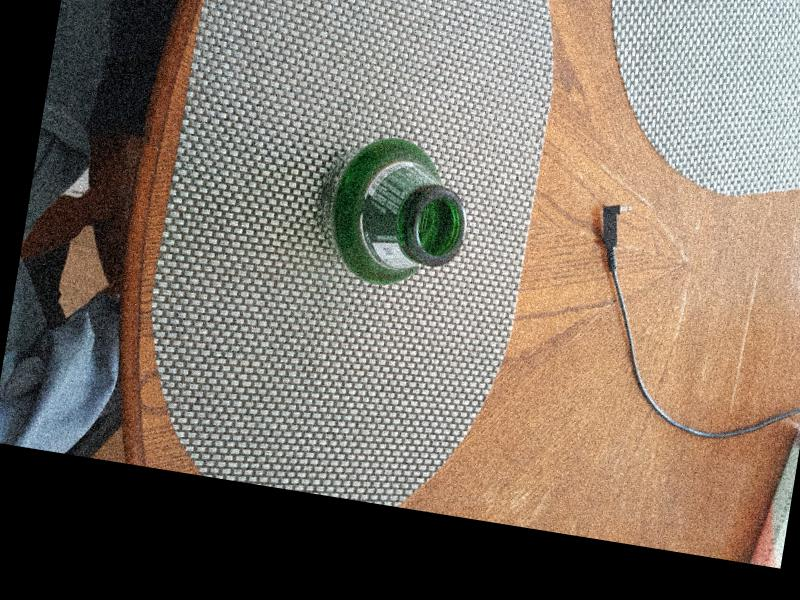Beer: (309, 134, 475, 287)
